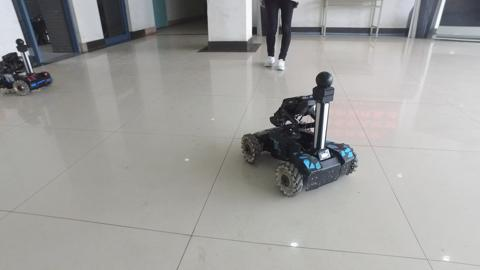chariot: (240, 69, 359, 197), (1, 38, 54, 96)
